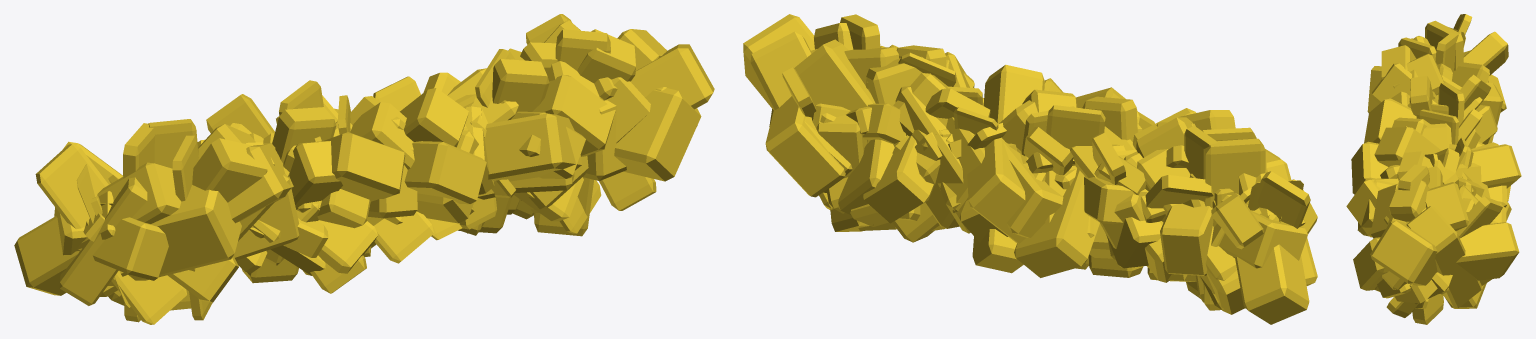
The model's file is geometrynodes.fbx.
3 renders of one model, left to right at view 1: azimuth 30°, elevation 25°; view 2: azimuth 150°, elevation 25°; view 3: azimuth 270°, elevation 25°, orthographic. The views are drawn at different scales.
Parts seen in each view (by area): view 1: Plane; view 2: Plane; view 3: Plane.
Boxes of the visible parts, x1,y1,x2,y2 form: Plane: (14,14,714,324); Plane: (743,14,1317,324); Plane: (1346,14,1521,324).
Size of the model in its own units: 1571 by 476 by 497.
